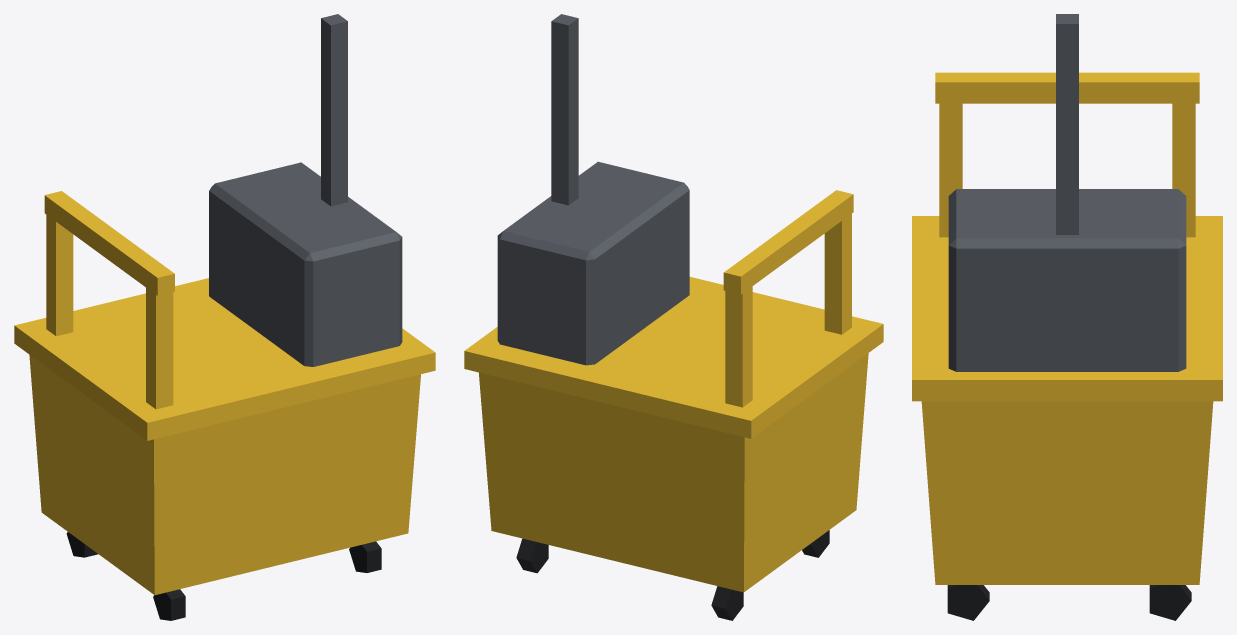
The model's file is prop_bucket.glb.
3 views of the same model, side by side, from view 1: azimuth 30°, elevation 25°; view 2: azimuth 150°, elevation 25°; view 3: azimuth 270°, elevation 25° (orthographic). The views are drawn at different scales.
Parts seen in each view (by area): view 1: PropBucket; view 2: PropBucket; view 3: PropBucket.
Part boxes in pixels (x1,y1,x2,y2): PropBucket: [14, 14, 435, 620]; PropBucket: [464, 14, 883, 620]; PropBucket: [912, 14, 1222, 620].
Size of what is drawn, in the model's own units: 0.5 by 0.8585 by 0.4.
